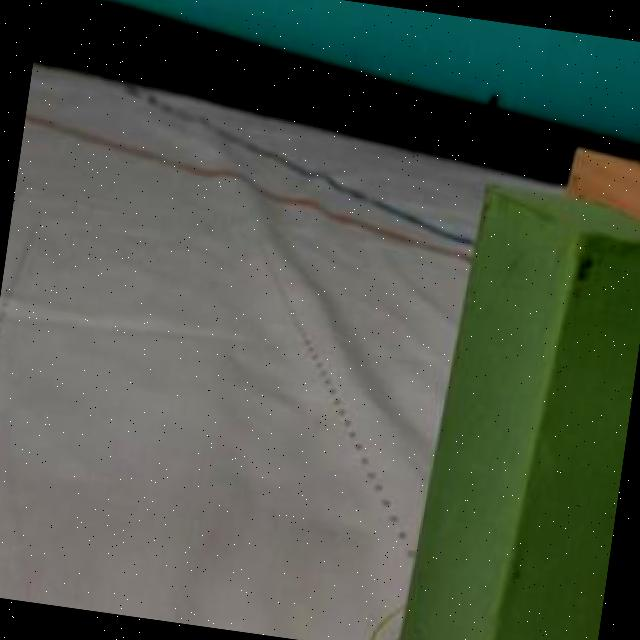greenbox: (392, 169, 640, 640)
